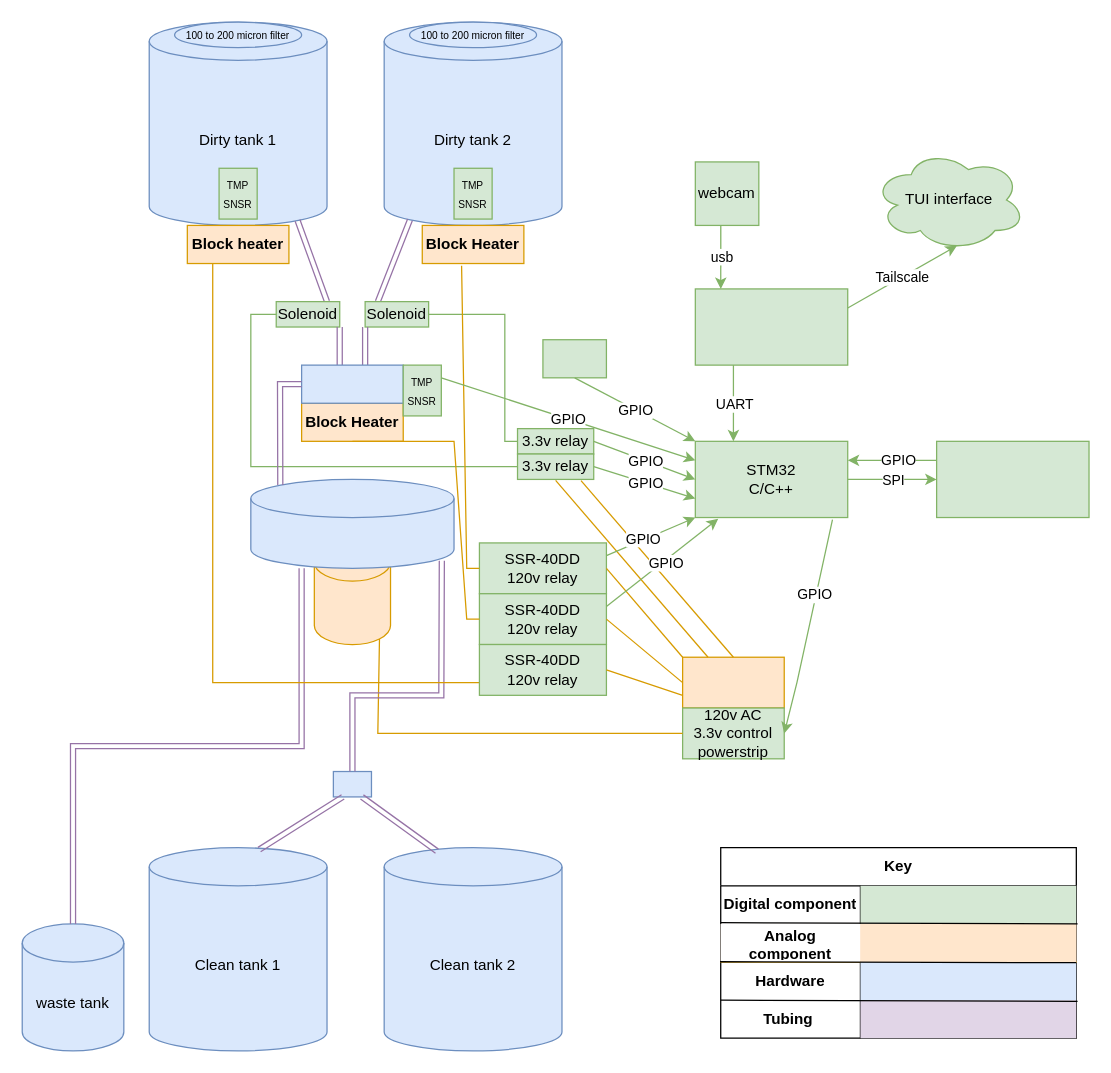
Some shapes in this 1111 by 1073 pixel diagram are drawn without their labels. The shapes that lost their labels are listed below. From the top down, each one's centre as x and y in pixels, then its label:
the point at 771,326: RPI2 Linux
the point at 574,358: LM393 ir sensor
the point at 351,383: Copper heat exchanger
the point at 1012,479: controller/ screen
the point at 352,523: Centerfuge
the point at 352,593: Motor
the point at 732,682: 12v DC
the point at 351,783: valve
